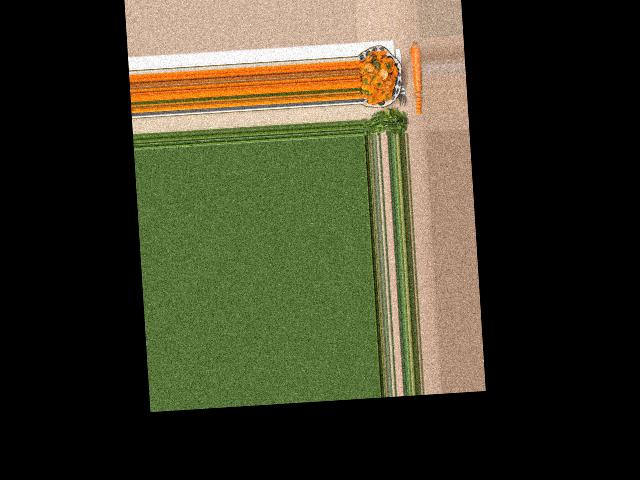carrot: (411, 42, 424, 91)
